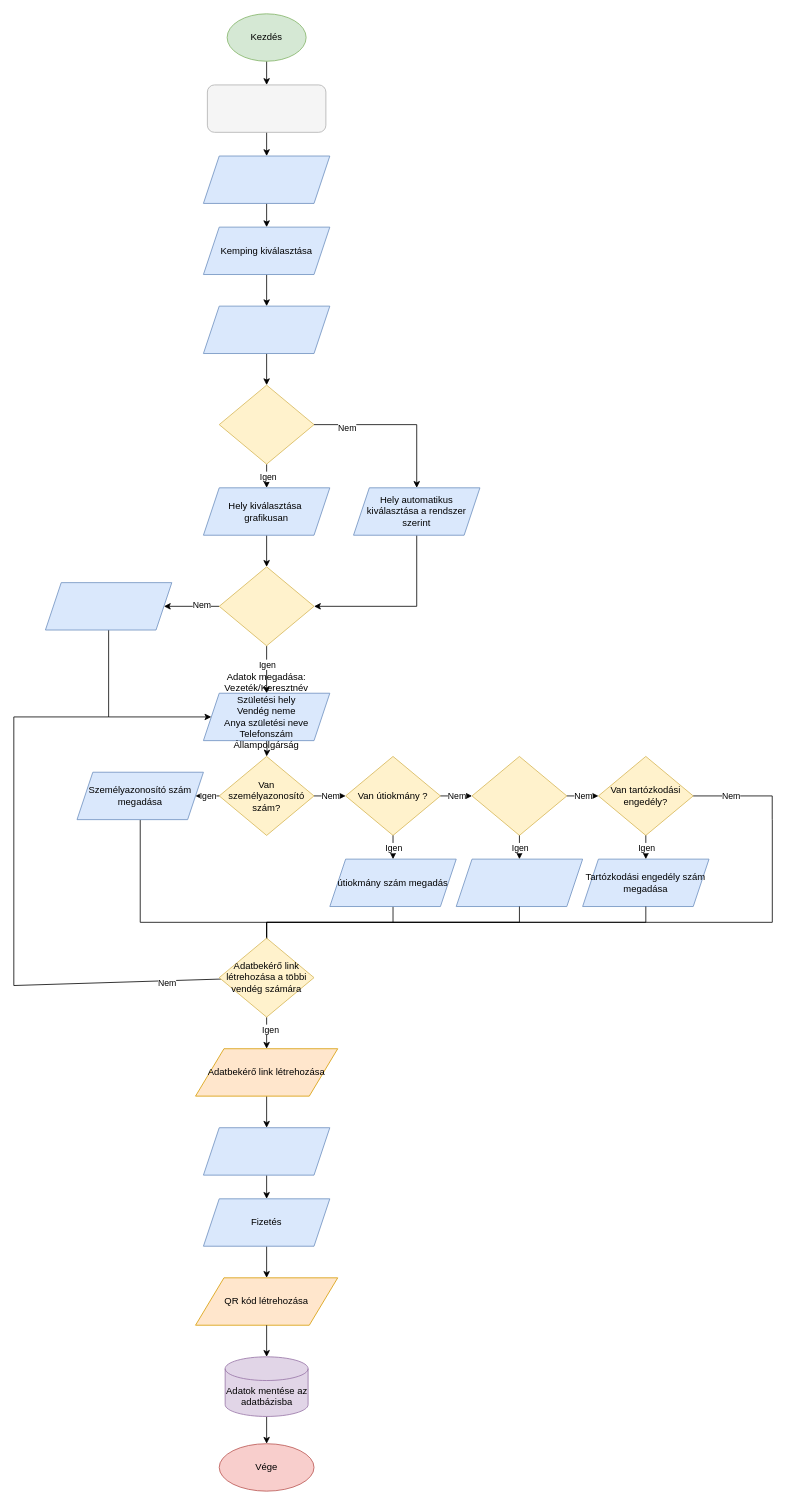
Image size: 793x1505. Some labels were removed from this diagram. The box of each missing label's shape, as (x1, y1, x2, y2) in pixels:
Be van jelentkezve?: (218, 566, 314, 646)
Bejelentkezés: (45, 582, 172, 630)
Fizetési mód kiválasztása (banki utalás, paypal stb): (203, 1127, 330, 1175)
Grafikus helyfoglalás?: (218, 384, 314, 464)
Kempinghely típusának kiválasztása: (203, 305, 330, 354)
Keresési adatok megadása Város, érkezés/távozás, vendégek száma: (203, 155, 330, 203)
Oldal megnyitása: (207, 84, 326, 132)
Van vízuma?: (471, 756, 567, 835)
Vízum szám megadása: (455, 858, 583, 907)
